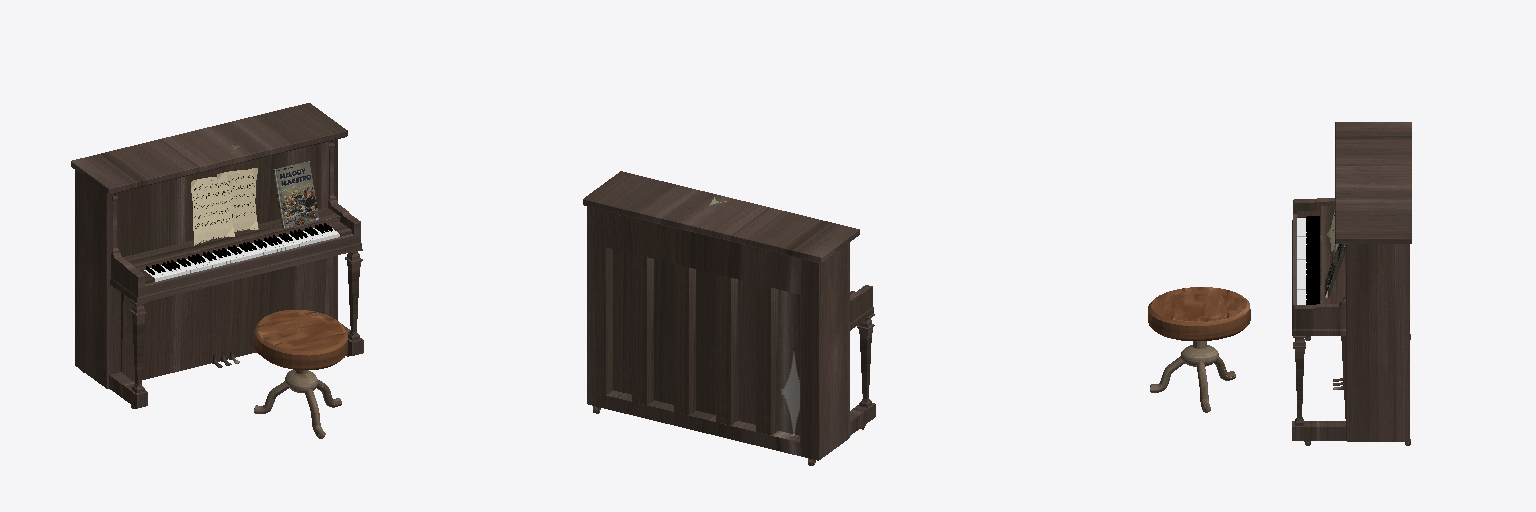
3 views of the same model, side by side, from view 1: azimuth 30°, elevation 25°; view 2: azimuth 150°, elevation 25°; view 3: azimuth 270°, elevation 25° (orthographic).
Parts seen in each view (by area): view 1: LODGroup_1_MainMesh_1_Submesh_1, Plane.002, PosterMissing_PosterMissing, Ladybird_Book_A, PosterMissing_PosterMissing.001; view 2: LODGroup_1_MainMesh_1_Submesh_1; view 3: LODGroup_1_MainMesh_1_Submesh_1, Plane.002.
Boxes of the visible parts, x1,y1,x2,y2 form: LODGroup_1_MainMesh_1_Submesh_1: [71, 103, 363, 408]; Plane.002: [254, 310, 347, 438]; PosterMissing_PosterMissing: [191, 175, 234, 245]; Ladybird_Book_A: [273, 161, 318, 227]; PosterMissing_PosterMissing.001: [217, 168, 258, 231]; LODGroup_1_MainMesh_1_Submesh_1: [583, 171, 875, 465]; LODGroup_1_MainMesh_1_Submesh_1: [1292, 122, 1411, 445]; Plane.002: [1148, 287, 1250, 412].
Bounding box in the file's own units: 1.75 × 1.91 × 1.67.
8 materials, 7 textured.